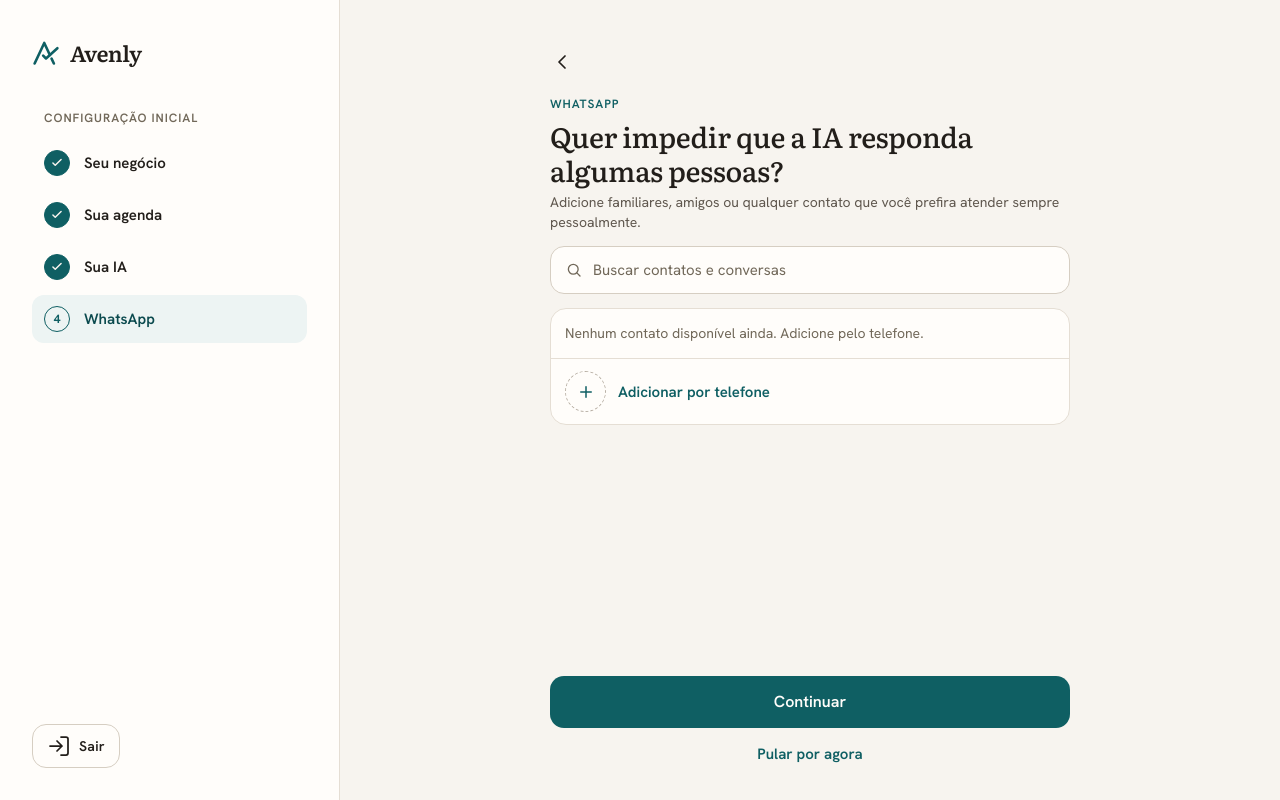
it: contatos-ignorados: erro por telefone › 400 VALIDATION_ERROR mostra o formato esperado, sem 'Tente novamente'
The width and height of the screenshot is (1280, 800).
Click the button "Adicionar por telefone" at (586, 392), box [551,358,1069,424]
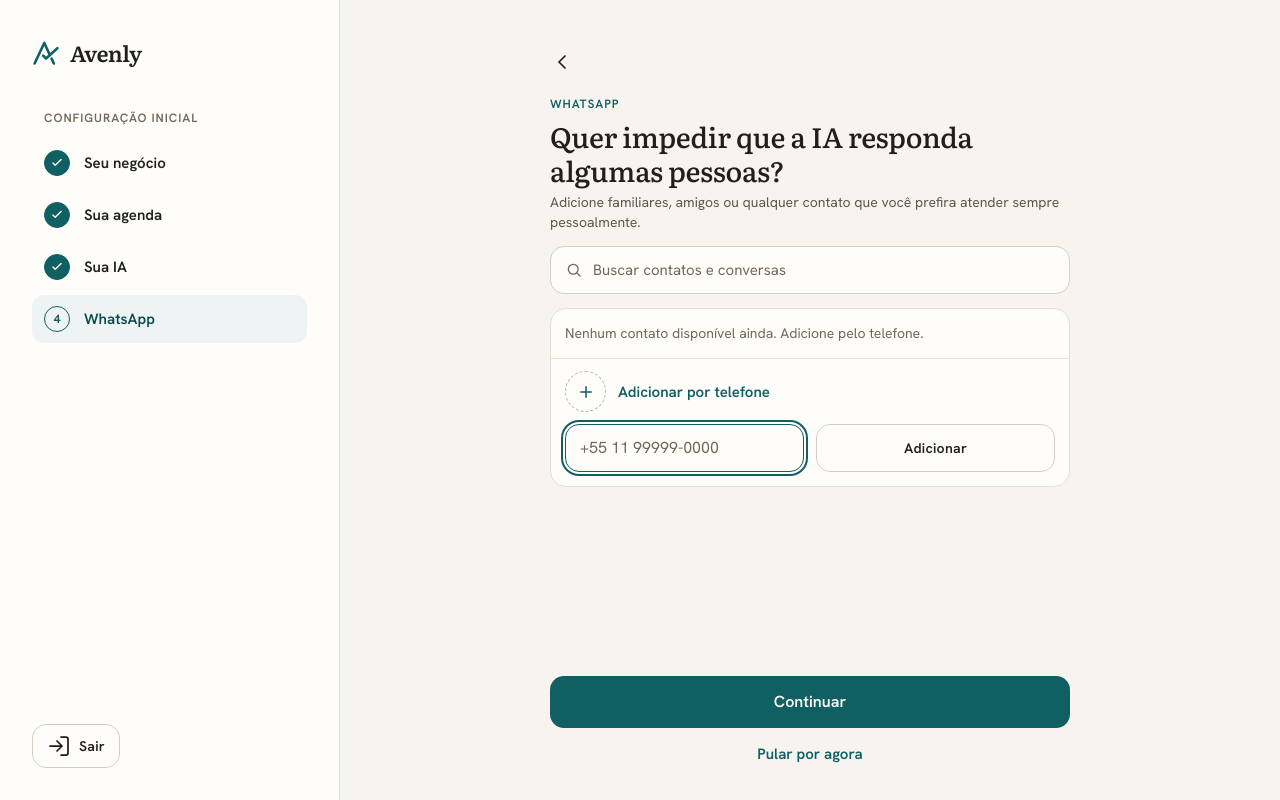
Type "123" into the field with placeholder "+55 11 99999-0000" at (684, 448), box [565,424,804,472]
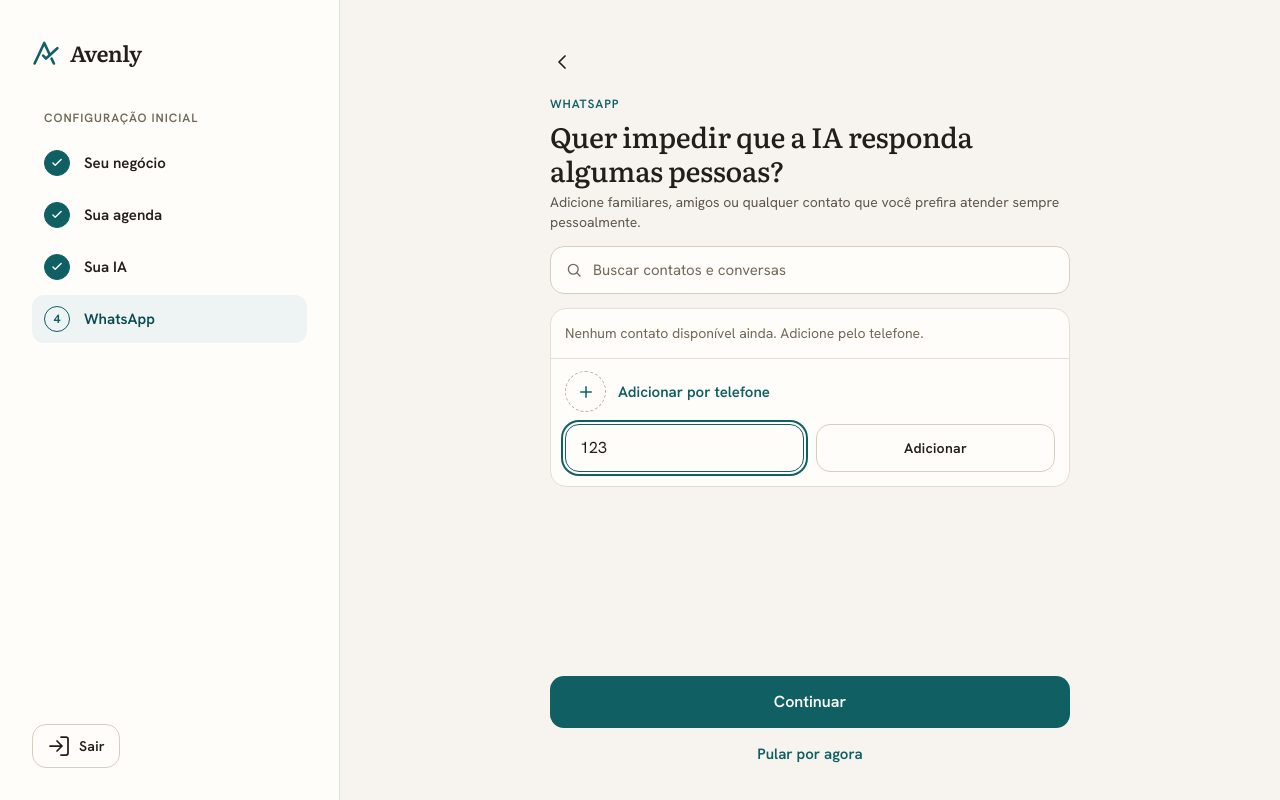
Click the button "Adicionar" at (936, 448), box [816,424,1055,472]
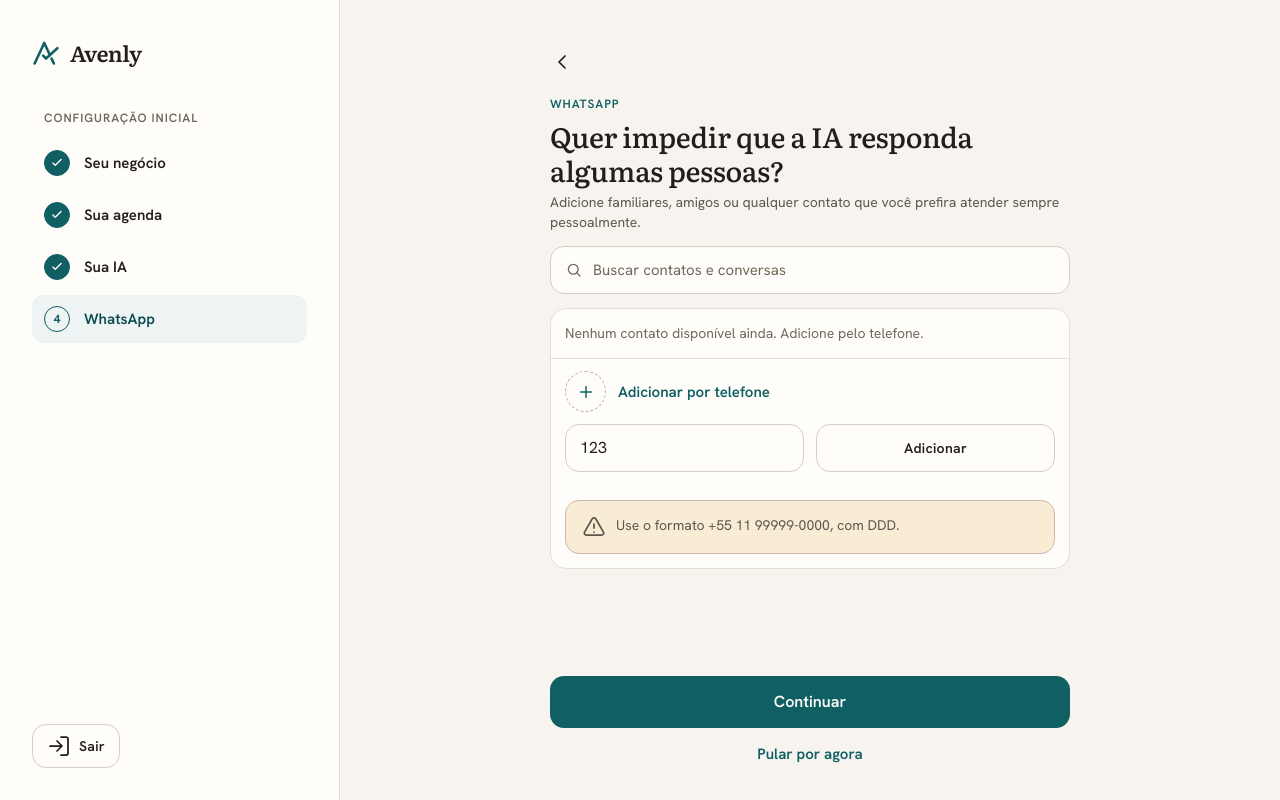
Check: the text "Use o formato +55 11 99999-0000, com DDD." is shown, box [616,515,900,536]
